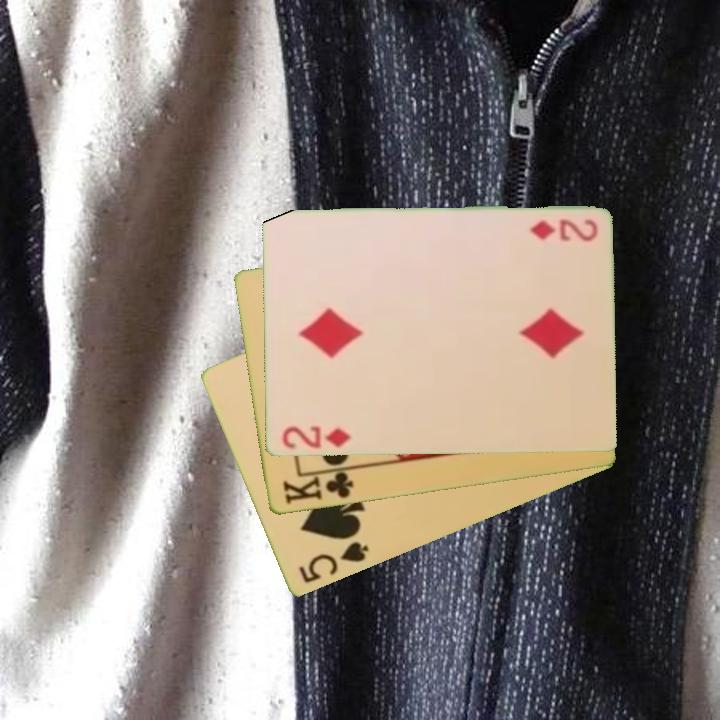2d: (279, 423, 354, 452), (526, 216, 600, 243)
5s: (295, 538, 372, 587)
Kc: (279, 465, 357, 508)
